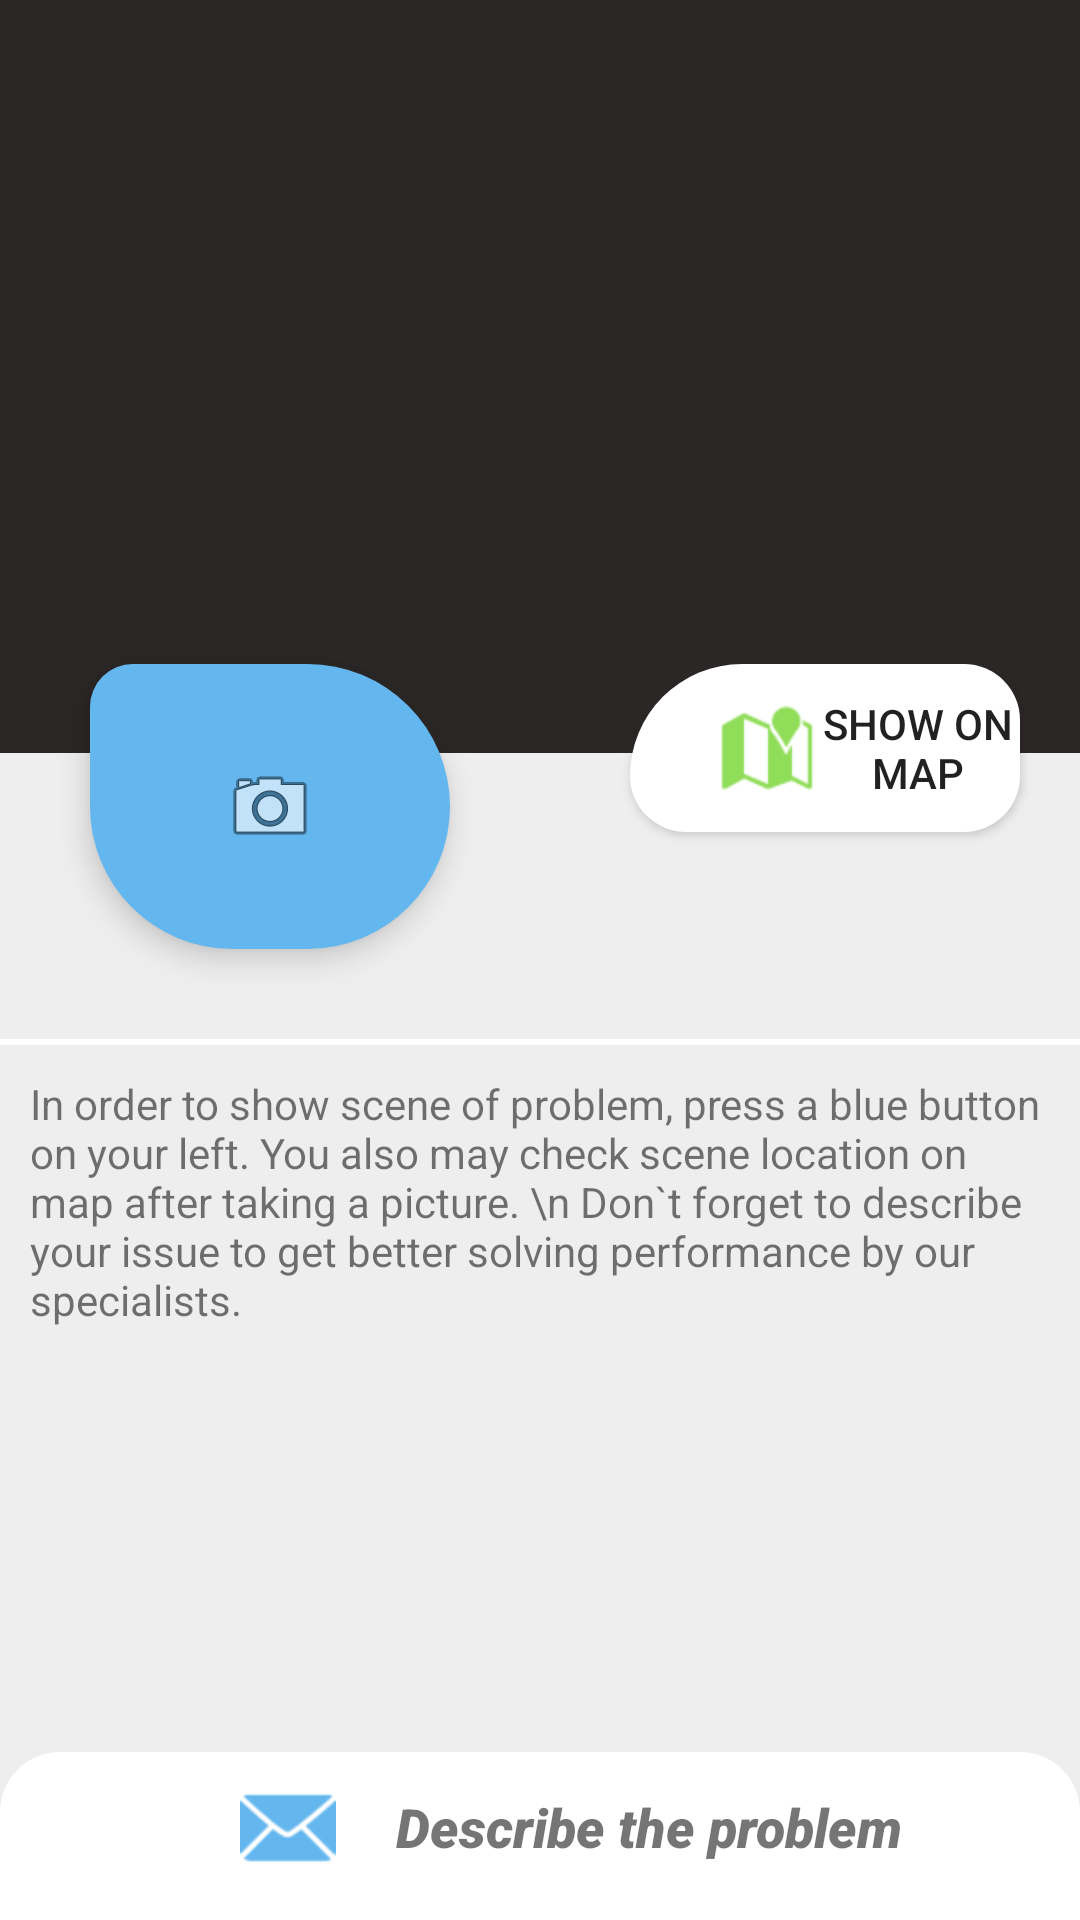

Icons on this 1080px×1920px Android screen, each with the point to tap as [x,y]:
camera: [270,806]
email: [288,1828]
